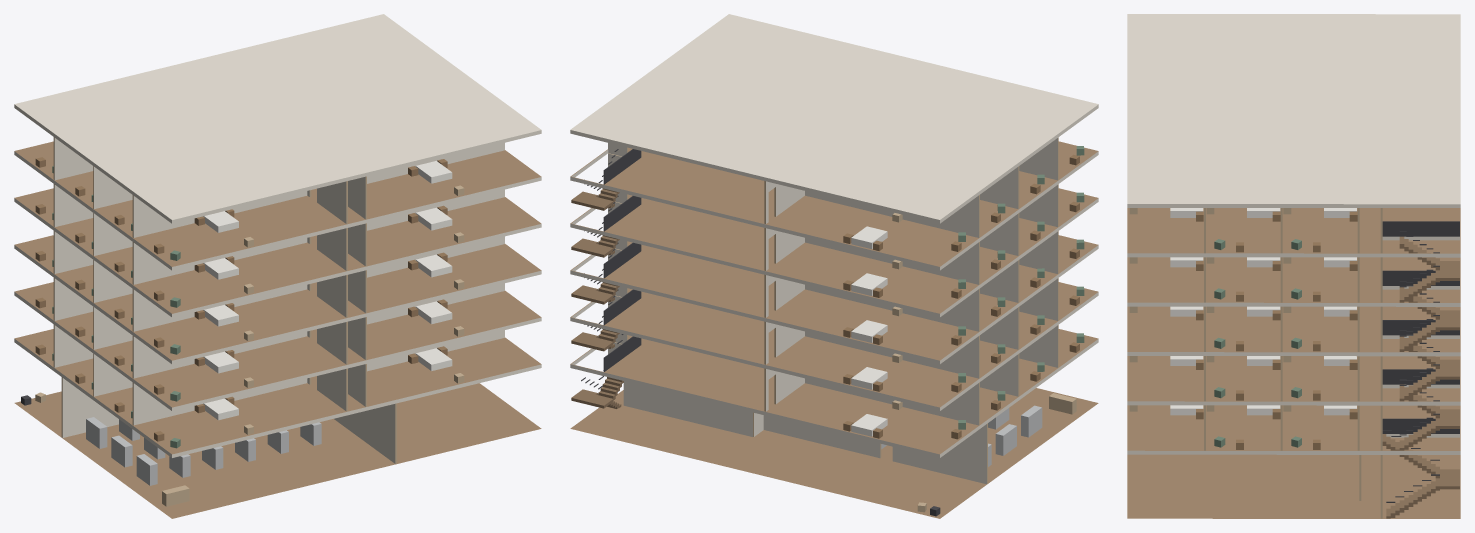
File: interior.glb
The picture shows the model from 3 angles, left to right: view 1: azimuth 30°, elevation 25°; view 2: azimuth 150°, elevation 25°; view 3: azimuth 270°, elevation 25°; orthographic projection. The views are drawn at different scales.
Parts seen in each view (by area): view 1: slabs, partitions, coarse-s0, coarse-s2, coarse-s3, coarse-s4, coarse-s5, coarse-s1; view 2: slabs, partitions, stair, coarse-s0, coarse-s4, coarse-s3, coarse-s5, coarse-s2, coarse-s1; view 3: slabs, stair, partitions, coarse-s1, coarse-s3, coarse-s4, coarse-s2, coarse-s5.
Part boxes in pixels (x1,y1,x2,y2): slabs: (14,14,541,518); partitions: (53,137,504,463); coarse-s0: (21,392,321,506); coarse-s2: (35,297,464,401); coarse-s3: (35,251,464,354); coarse-s4: (35,204,464,307); coarse-s5: (35,157,464,260); coarse-s1: (35,344,464,448); slabs: (570,14,1098,518); partitions: (608,137,1058,484); stair: (571,149,641,408); coarse-s0: (881,393,1076,516); coarse-s4: (843,192,1084,298); coarse-s3: (843,239,1084,345); coarse-s5: (843,146,1084,251); coarse-s2: (843,286,1084,392); coarse-s1: (843,333,1084,439); slabs: (1127,14,1460,518); stair: (1382,221,1459,518); partitions: (1204,208,1382,518); coarse-s1: (1129,405,1357,449); coarse-s3: (1129,306,1357,351); coarse-s4: (1129,257,1357,301); coarse-s2: (1129,356,1357,400); coarse-s5: (1129,208,1357,252).
Size of the model in its own units: 27.12 by 20.94 by 20.1.
